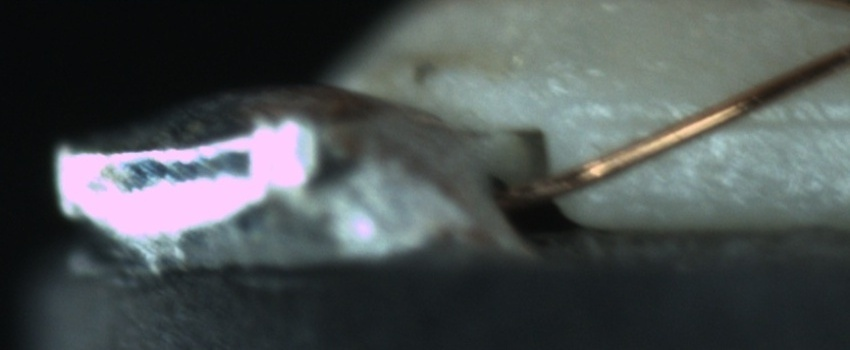DL: (601, 88, 849, 154)
